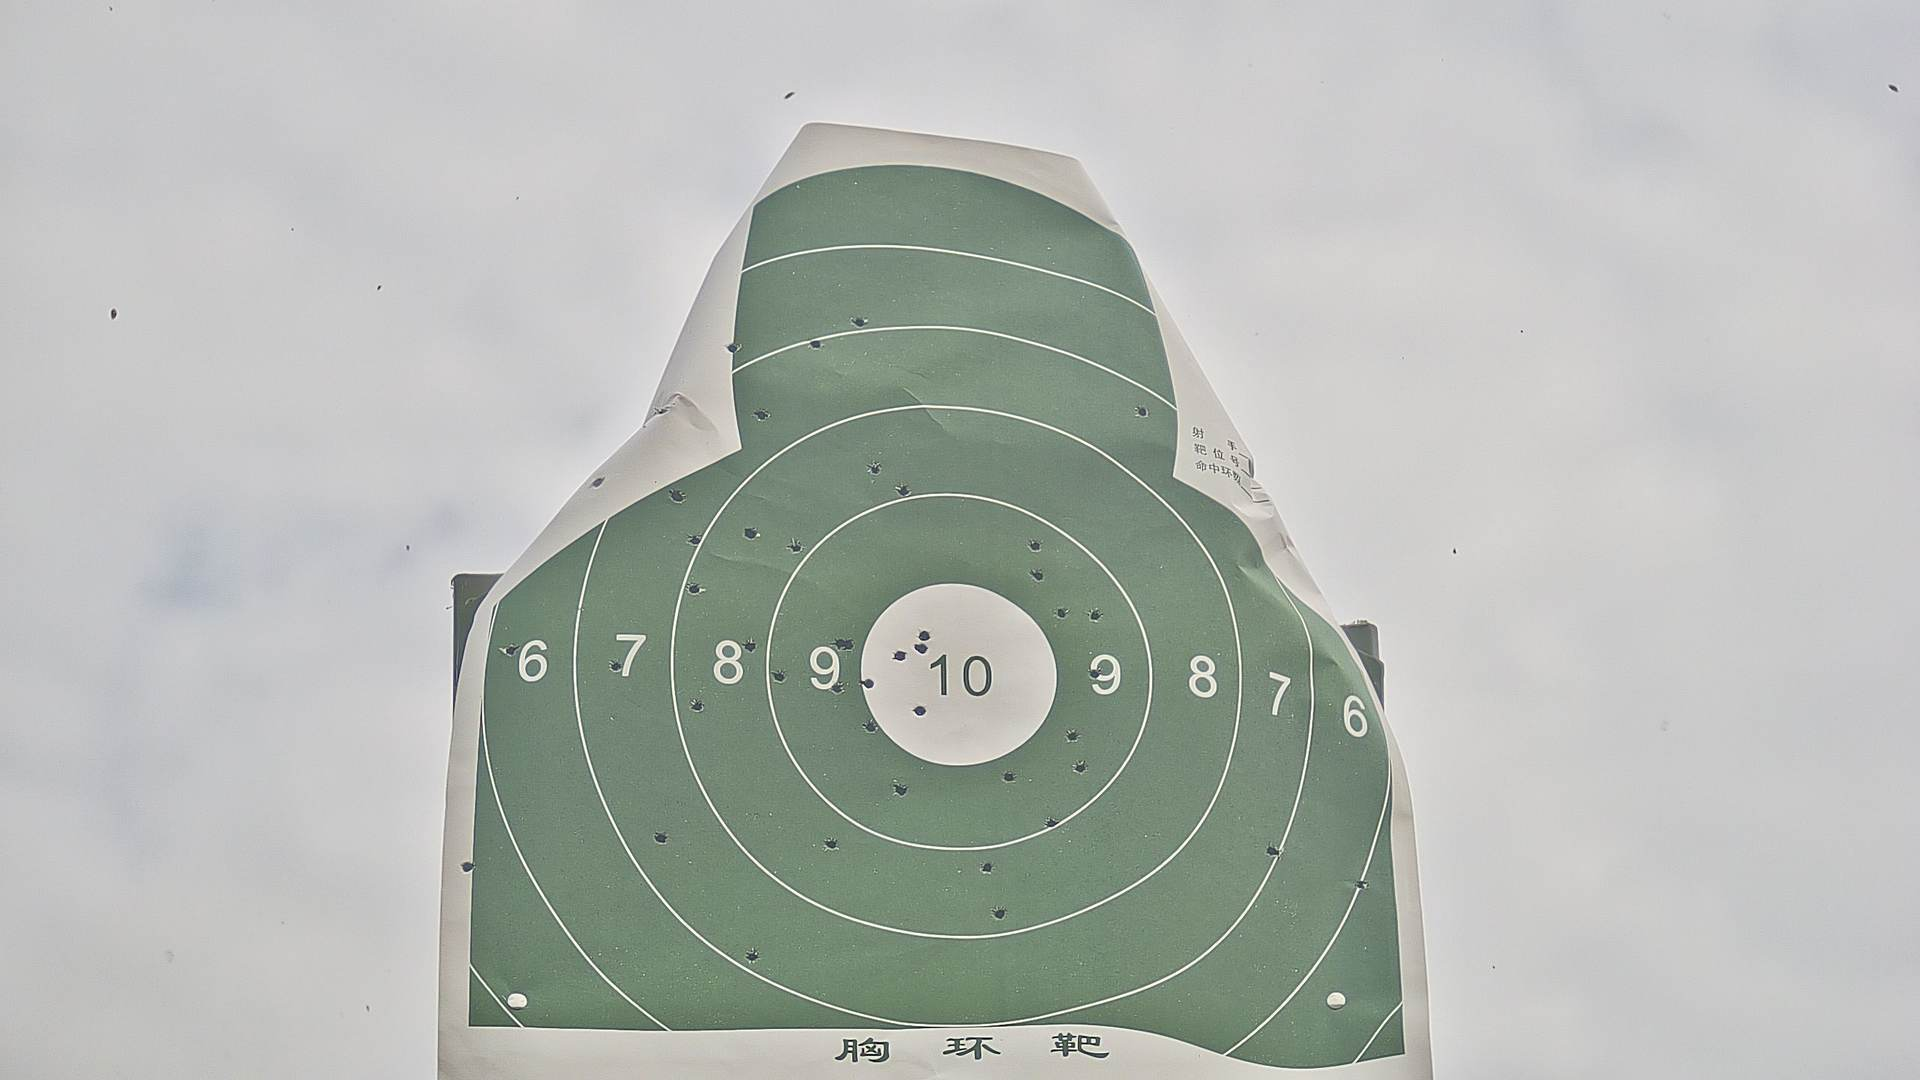hole: (588, 473, 607, 489), (669, 487, 684, 504), (459, 858, 477, 872), (992, 905, 1007, 919), (895, 483, 913, 496), (915, 640, 930, 654), (691, 698, 704, 713), (742, 525, 757, 538), (823, 837, 837, 851), (869, 462, 882, 475), (831, 682, 844, 695), (1031, 568, 1044, 582), (807, 338, 822, 349), (771, 670, 786, 682), (843, 637, 855, 651), (505, 642, 516, 658), (852, 315, 864, 328), (789, 541, 800, 554), (688, 531, 699, 546), (654, 832, 669, 843), (980, 861, 994, 872), (727, 342, 738, 353), (1137, 405, 1149, 417), (688, 582, 700, 593), (744, 640, 756, 651), (1075, 762, 1087, 774), (1091, 669, 1102, 680), (1267, 845, 1279, 857), (865, 720, 876, 733), (893, 649, 906, 659), (1356, 880, 1369, 890), (1068, 728, 1077, 742), (757, 409, 767, 421), (833, 637, 844, 649), (862, 676, 873, 688), (919, 629, 931, 640), (1047, 816, 1058, 828), (1091, 609, 1101, 621), (895, 785, 906, 795), (914, 703, 924, 713), (1004, 770, 1014, 781), (1030, 541, 1040, 551), (609, 659, 621, 669), (748, 949, 757, 961), (1056, 608, 1065, 618)
kernel: (953, 676, 957, 680)
target: (462, 164, 1404, 1069)
ten: (858, 578, 1059, 764)
